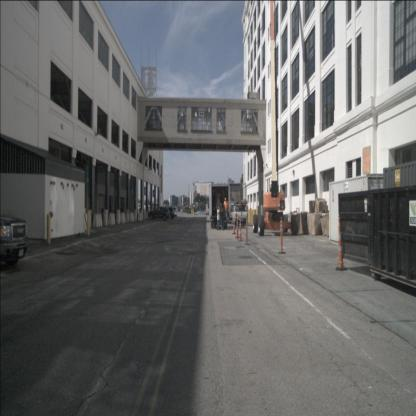cone: (336, 217, 347, 271), (278, 217, 286, 254), (244, 215, 250, 245), (237, 215, 243, 242), (235, 214, 239, 238), (232, 215, 236, 235)
